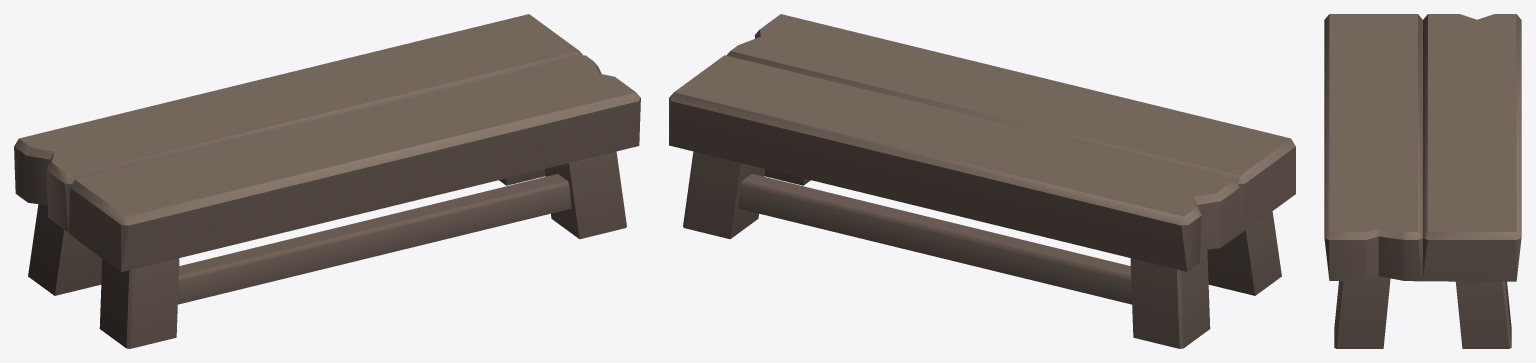
The model's file is d_kaykit_banc.glb.
The picture shows the model from 3 angles, left to right: view 1: azimuth 30°, elevation 25°; view 2: azimuth 150°, elevation 25°; view 3: azimuth 270°, elevation 25°; orthographic projection. The views are drawn at different scales.
Parts seen in each view (by area): view 1: d_kaykit_banc; view 2: d_kaykit_banc; view 3: d_kaykit_banc.
Part boxes in pixels (x1,y1,x2,y2): d_kaykit_banc: (14,14,640,348); d_kaykit_banc: (669,14,1295,348); d_kaykit_banc: (1324,14,1521,348).
Size of the model in its own units: 2 by 0.5001 by 0.7501.
1 material, 1 textured.
